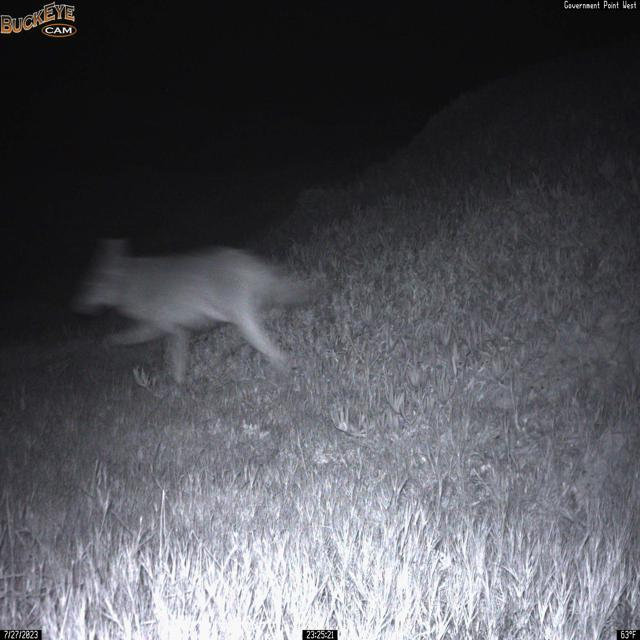coyote: (69, 234, 325, 392)
